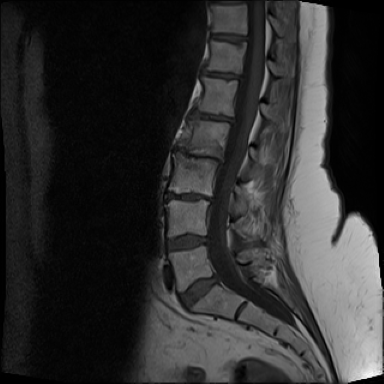Degenerative Disc Disease (DDD): (167, 143, 231, 163)
Lumbar Disc Bulge (LDB): (174, 268, 222, 317), (162, 226, 213, 258), (155, 184, 221, 207), (188, 104, 242, 128)
Normal IVD: (207, 31, 252, 45)
Spinal Stenosis (SS): (204, 184, 222, 209), (216, 147, 230, 170), (226, 109, 242, 129)
Spondylolisthesis: (158, 130, 234, 189)
Thoracic Disc Bulge (TDB): (197, 67, 246, 85)
